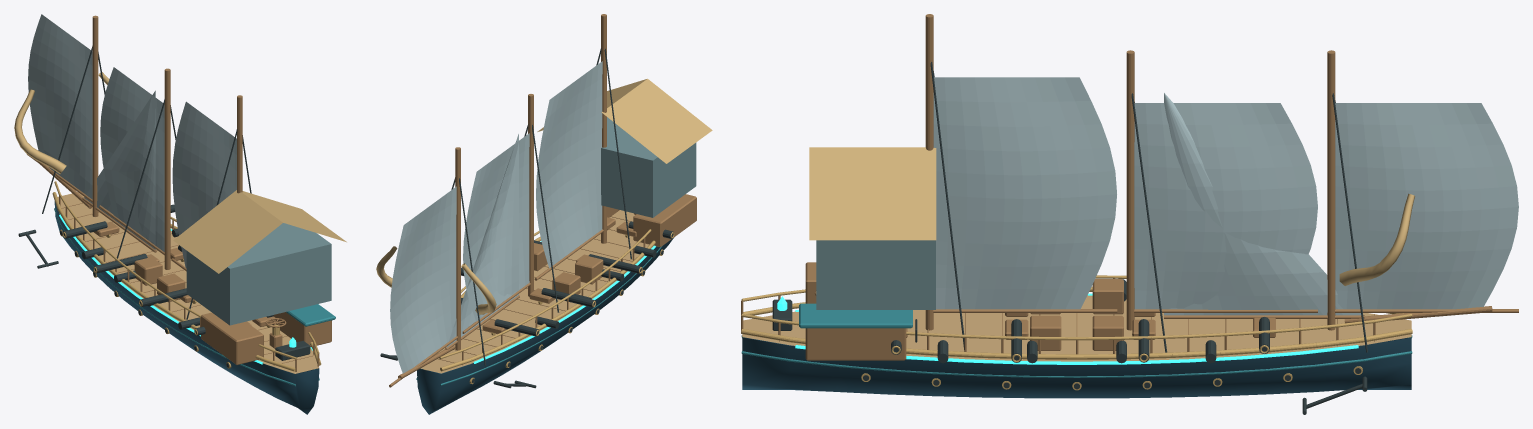
Rendered from premium_ghost_frigate.glb.
3 views of the same model, side by side, from view 1: azimuth 30°, elevation 25°; view 2: azimuth 150°, elevation 25°; view 3: azimuth 270°, elevation 25° (orthographic). The views are drawn at different scales.
Visible parts, largest first — view 1: premium_ghost_frigate; view 2: premium_ghost_frigate; view 3: premium_ghost_frigate.
Boxes of the visible parts, x1,y1,x2,y2 form: premium_ghost_frigate: (14,14,346,414); premium_ghost_frigate: (376,14,712,414); premium_ghost_frigate: (741,14,1518,414).
Size of the model in its own units: 4.91 by 9.25 by 17.43.
